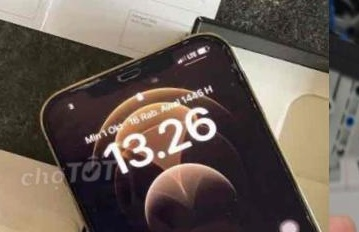physical_damage: (214, 35, 263, 113), (58, 62, 129, 101)
